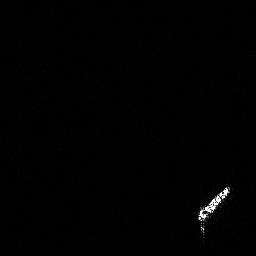ship: (194, 181, 232, 241)
